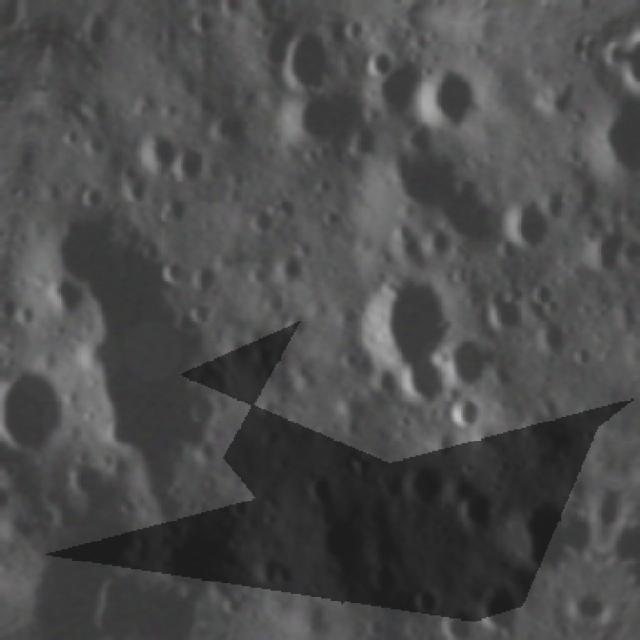crater: (347, 250, 465, 376), (416, 159, 526, 266), (495, 482, 602, 581), (368, 125, 464, 221), (144, 519, 245, 607), (263, 78, 365, 164), (569, 82, 640, 201), (0, 357, 75, 468), (268, 15, 360, 102), (415, 53, 493, 145), (302, 513, 378, 590), (364, 50, 436, 124), (492, 185, 556, 267), (447, 466, 515, 543), (389, 446, 456, 520), (121, 114, 187, 180), (392, 348, 458, 412), (436, 324, 499, 390), (204, 96, 268, 158), (468, 568, 528, 634), (574, 220, 634, 278), (380, 213, 438, 269), (478, 281, 532, 339), (163, 137, 215, 194), (62, 453, 118, 505), (66, 0, 119, 54), (146, 184, 200, 236), (38, 268, 91, 318), (68, 77, 121, 125), (246, 545, 302, 590), (528, 73, 582, 118), (441, 384, 488, 434), (526, 314, 576, 361), (363, 356, 411, 404), (111, 162, 157, 210), (264, 242, 310, 290), (182, 253, 227, 299), (298, 465, 340, 512), (362, 555, 403, 603), (607, 52, 640, 109), (277, 300, 320, 343), (434, 597, 477, 640), (179, 1, 221, 45), (402, 580, 446, 622), (182, 384, 221, 430), (363, 37, 399, 85), (523, 274, 563, 315), (184, 290, 224, 328), (71, 173, 111, 209), (218, 490, 256, 527), (239, 203, 278, 239), (76, 126, 113, 162), (188, 432, 225, 468), (565, 338, 600, 374), (53, 116, 87, 152), (215, 0, 257, 29), (10, 296, 42, 332), (157, 254, 189, 289), (306, 168, 336, 202), (0, 286, 25, 323), (0, 473, 18, 517), (632, 201, 640, 236)
